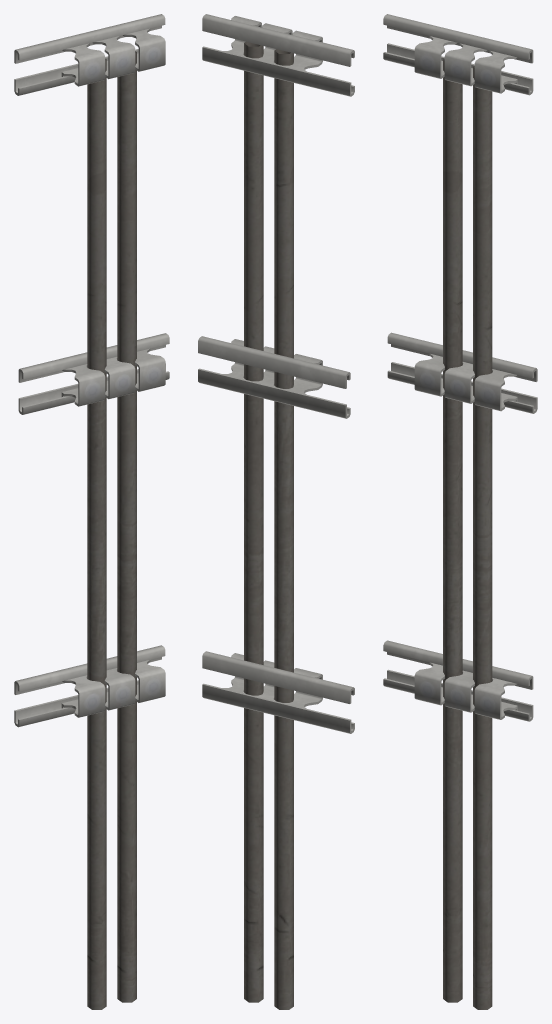
File: cable_double_alt_long.glb
The picture shows the model from 3 angles, left to right: view 1: azimuth 30°, elevation 25°; view 2: azimuth 150°, elevation 25°; view 3: azimuth 330°, elevation 25°; orthographic projection.
Parts seen in each view (by area): view 1: cable_double_alt_long.001; view 2: cable_double_alt_long.001; view 3: cable_double_alt_long.001.
Boxes of the visible parts, box(x1,y1,x2,y2) form: cable_double_alt_long.001: box(14, 14, 169, 1009); cable_double_alt_long.001: box(198, 14, 354, 1009); cable_double_alt_long.001: box(383, 14, 537, 1009).
Size of the model in its own units: 0.0997 by 0.6141 by 0.0221.
Materials: 1 (1 with a texture image).
